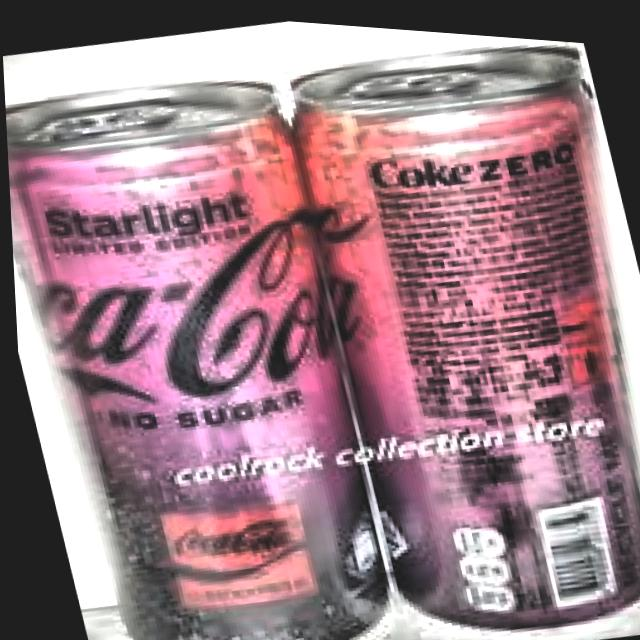Cans: (1, 20, 418, 640), (244, 14, 640, 640)
